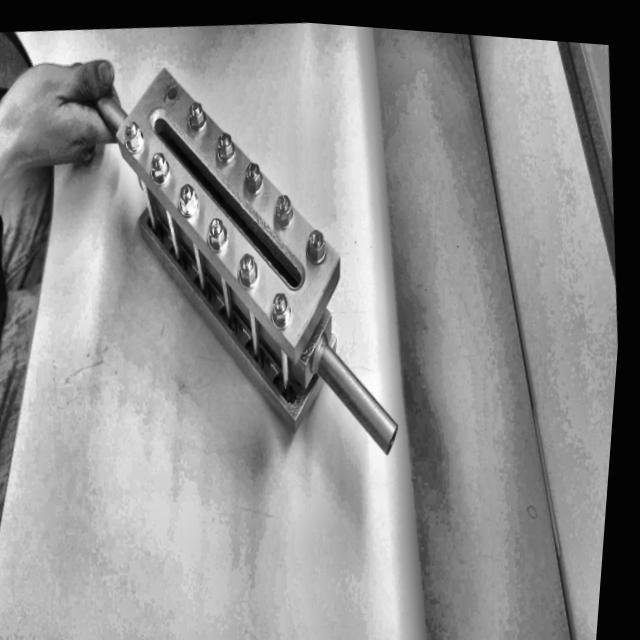ShuiWeiQi_11: (86, 16, 421, 484)
